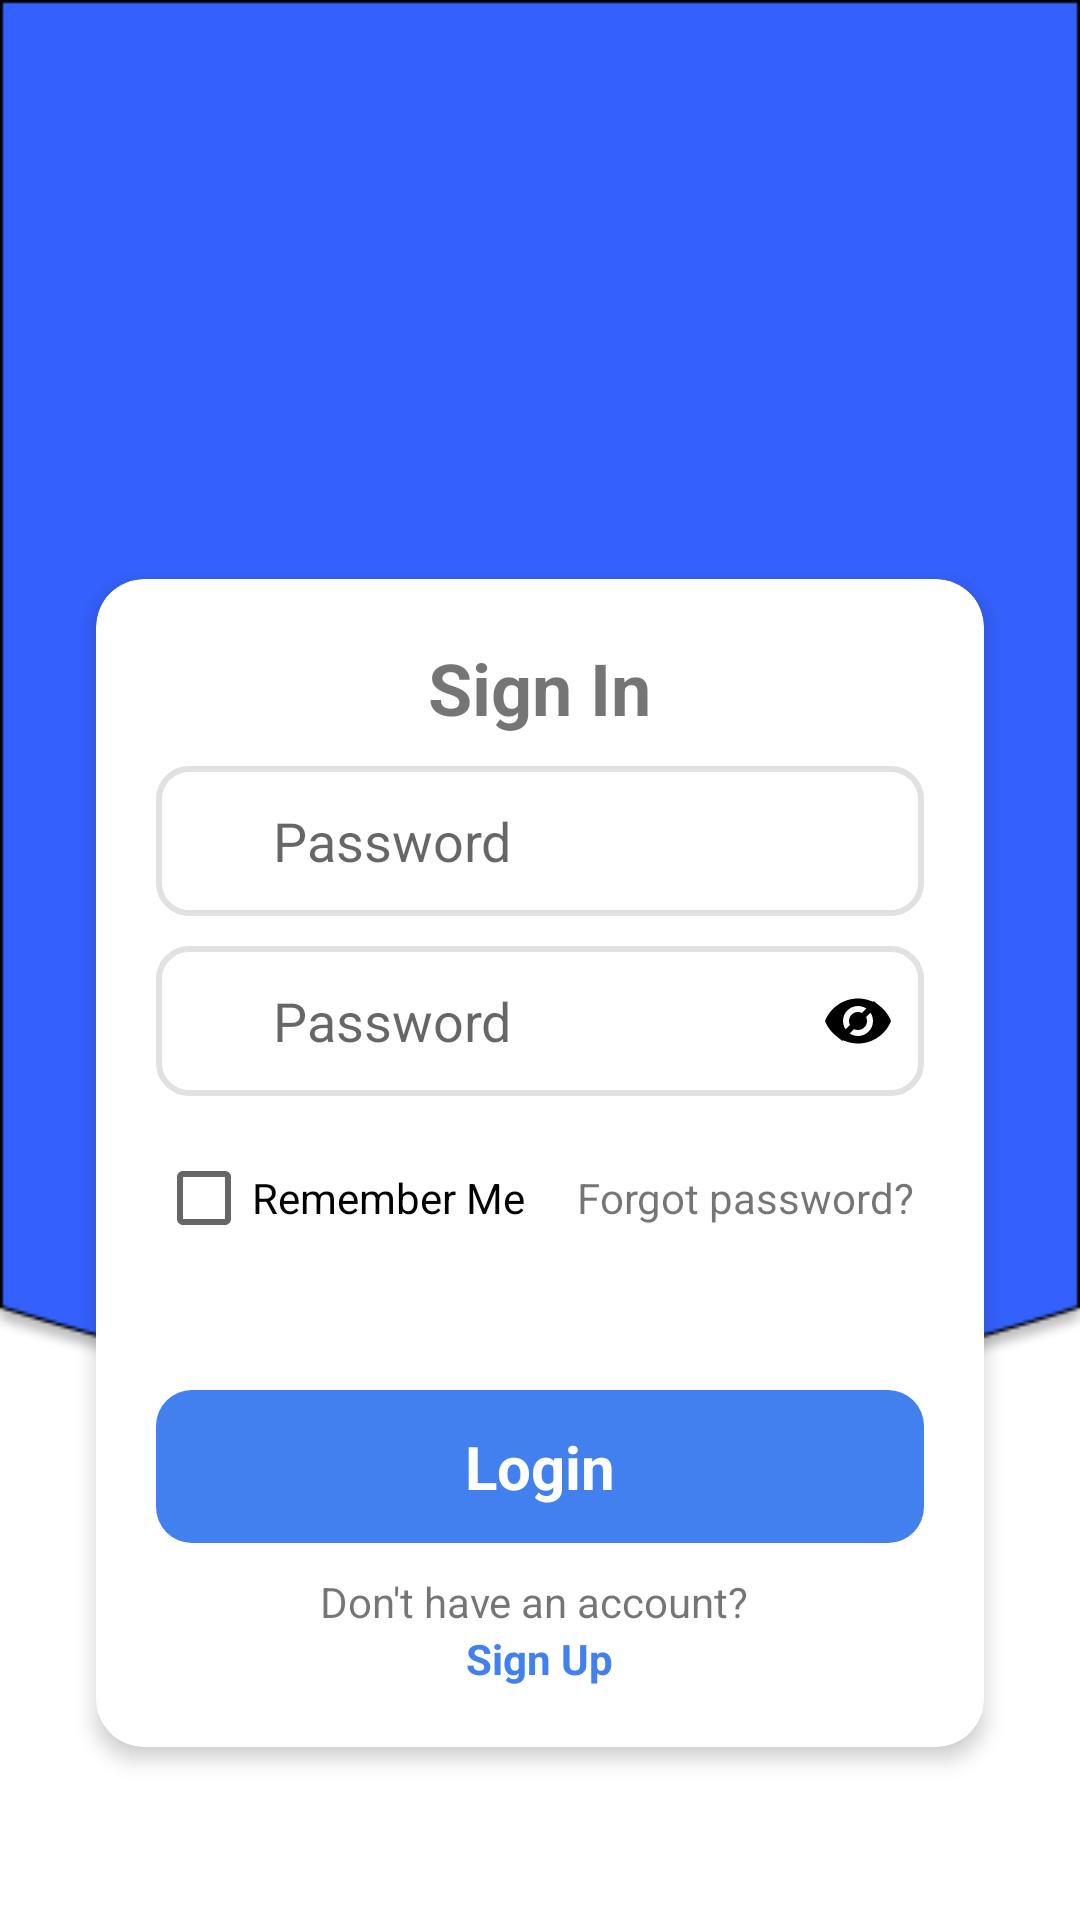

Icons on this 1080 × 1920 Android screen, each with the point to tap as (x,y):
visibility off: (858,1021)
